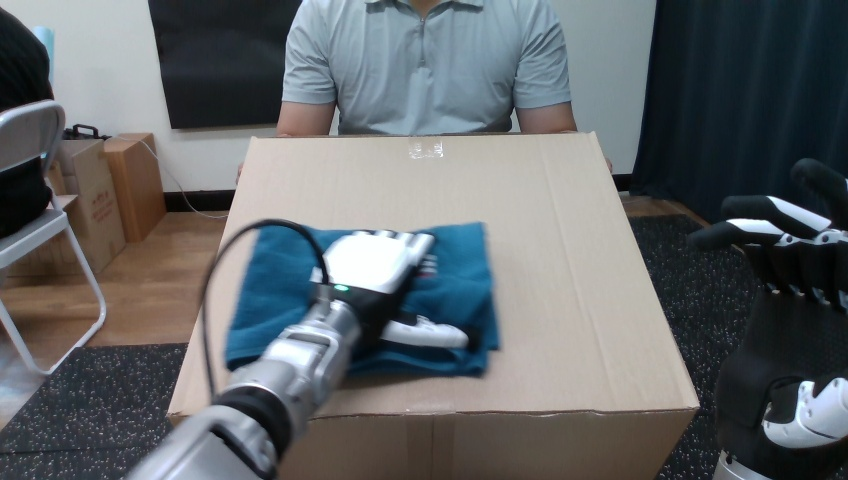left robot hand: (128, 230, 469, 478), (689, 159, 847, 479)
